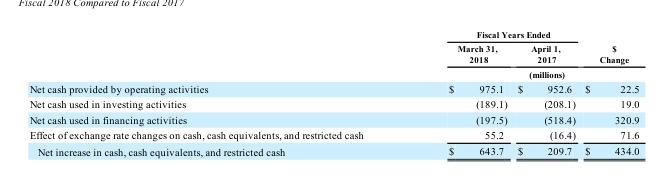table: (28, 29, 638, 156)
table column: (28, 29, 405, 156), (405, 29, 511, 156), (511, 29, 579, 156), (579, 29, 638, 156)
table column header: (28, 29, 638, 80)
table row: (28, 41, 638, 66), (28, 80, 638, 96), (28, 126, 638, 142), (28, 96, 638, 111), (28, 111, 638, 126), (28, 66, 638, 80), (28, 142, 638, 156), (28, 29, 638, 41)
table spanning cell: (405, 66, 638, 80), (579, 29, 638, 66), (405, 29, 579, 41)
